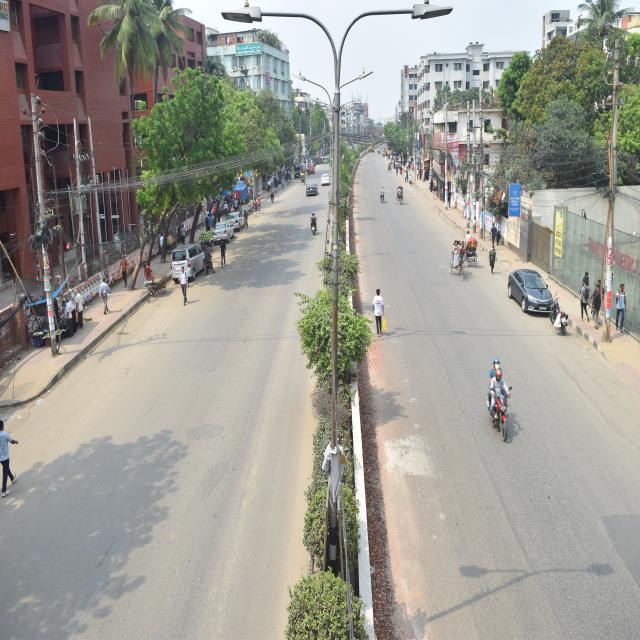car: (509, 262, 556, 321), (203, 226, 235, 248), (305, 174, 321, 203), (224, 208, 242, 233), (319, 163, 331, 191)
microbus: (166, 232, 206, 286)
motorbike: (476, 367, 516, 431), (540, 296, 570, 339), (309, 210, 319, 251), (379, 177, 389, 210)
